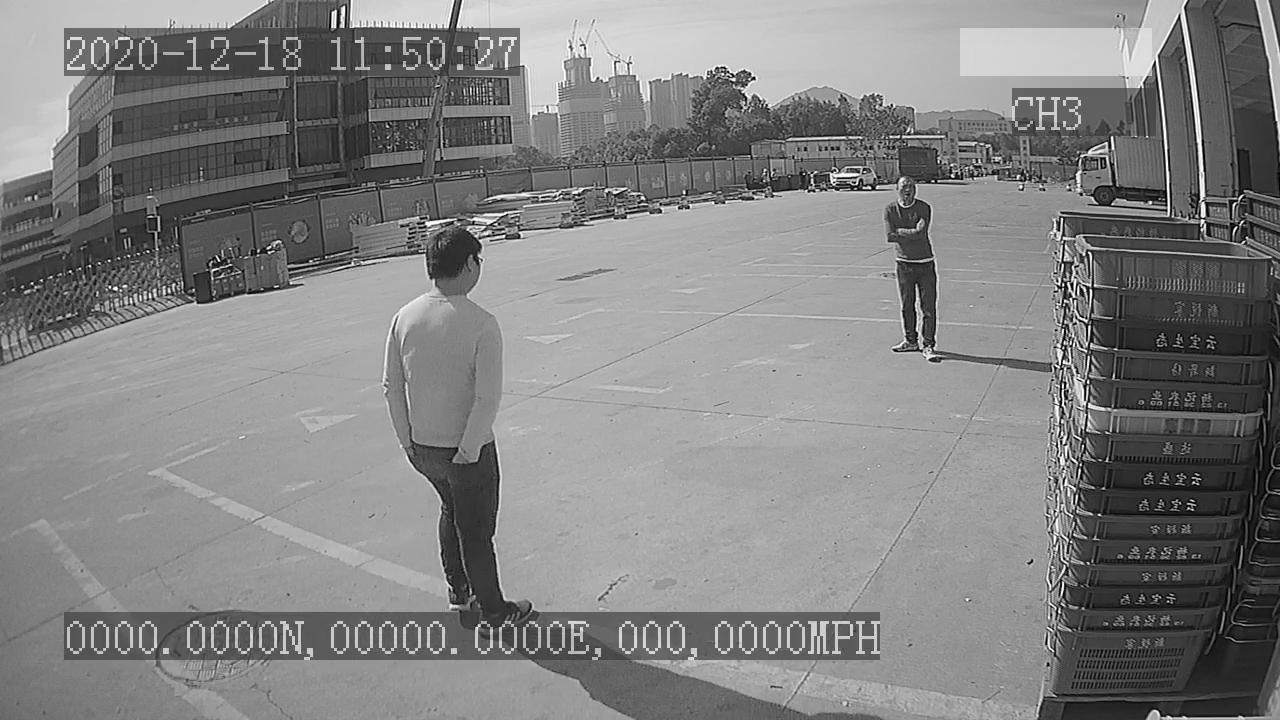person: (881, 176, 945, 365)
